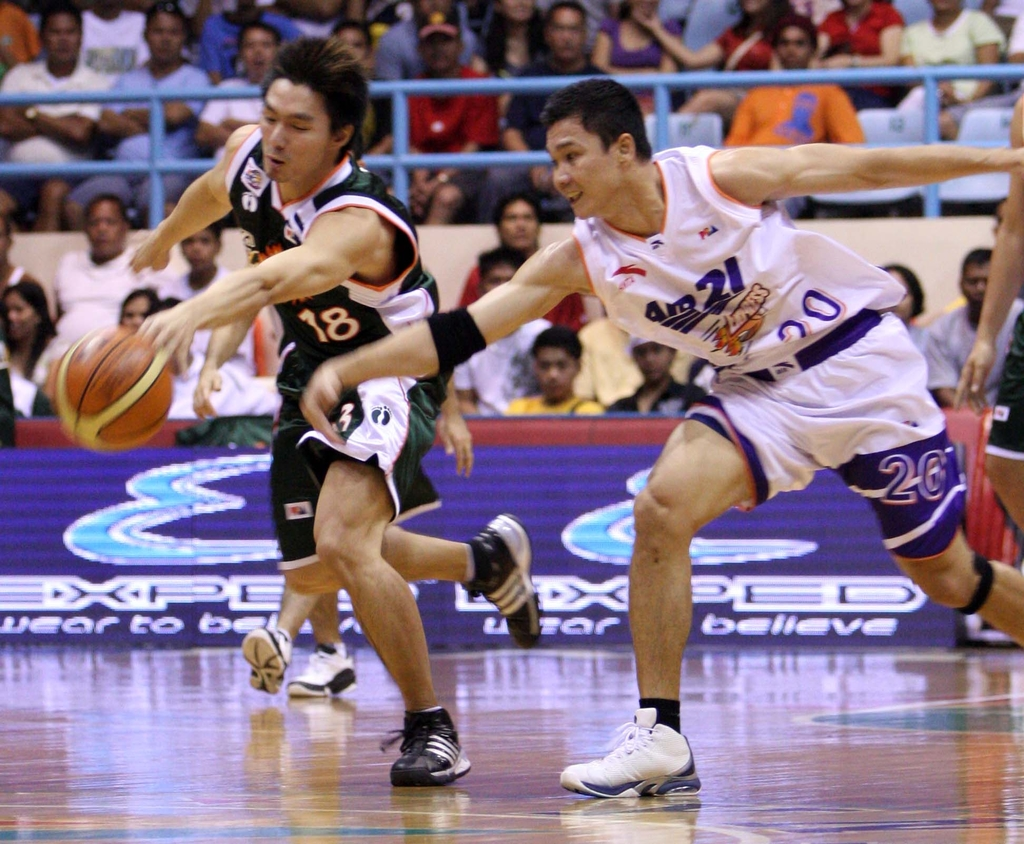Ball: (49, 334, 176, 451)
